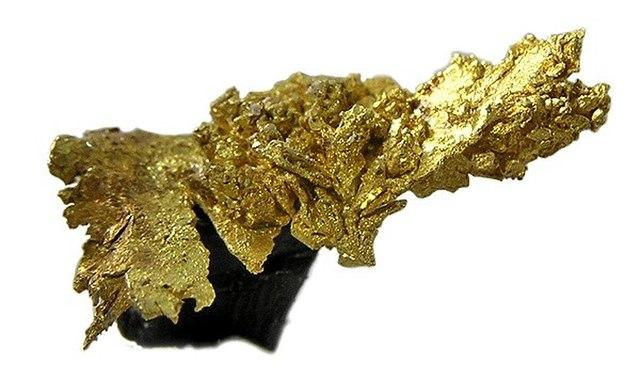gold: (39, 21, 630, 358)
